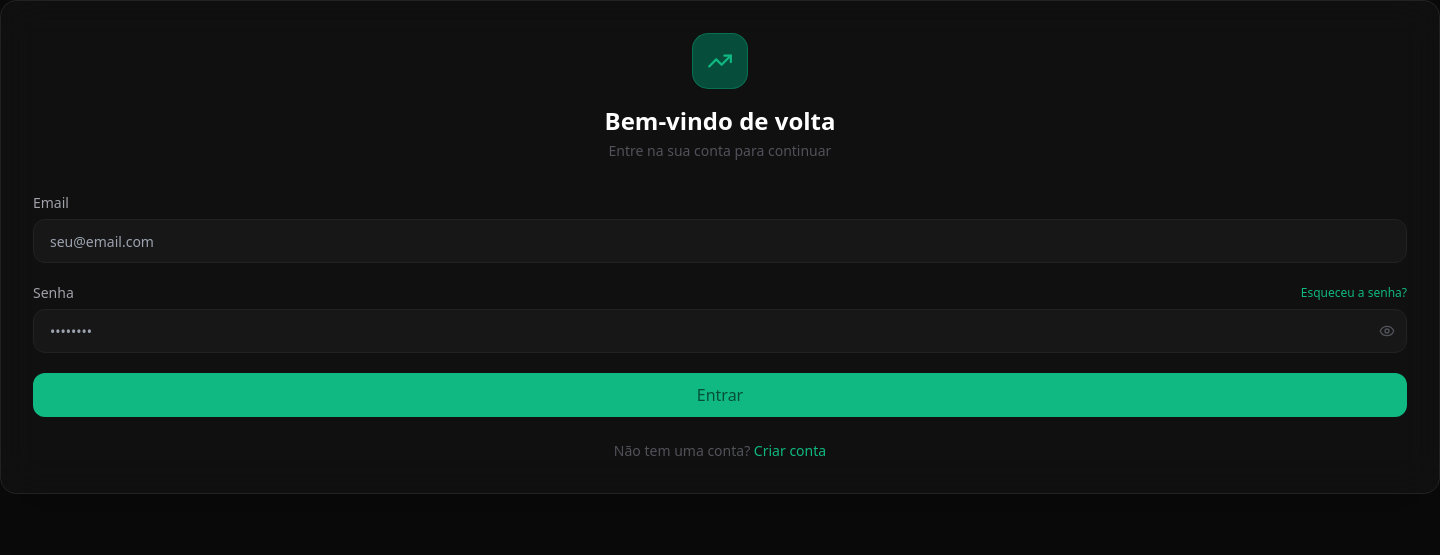
Test: LoginPage › deve mostrar erro com email inválido
Type "email-sem-arroba" into the field with placeholder "seu@email.com" at (720, 241), box [33,219,1407,263]
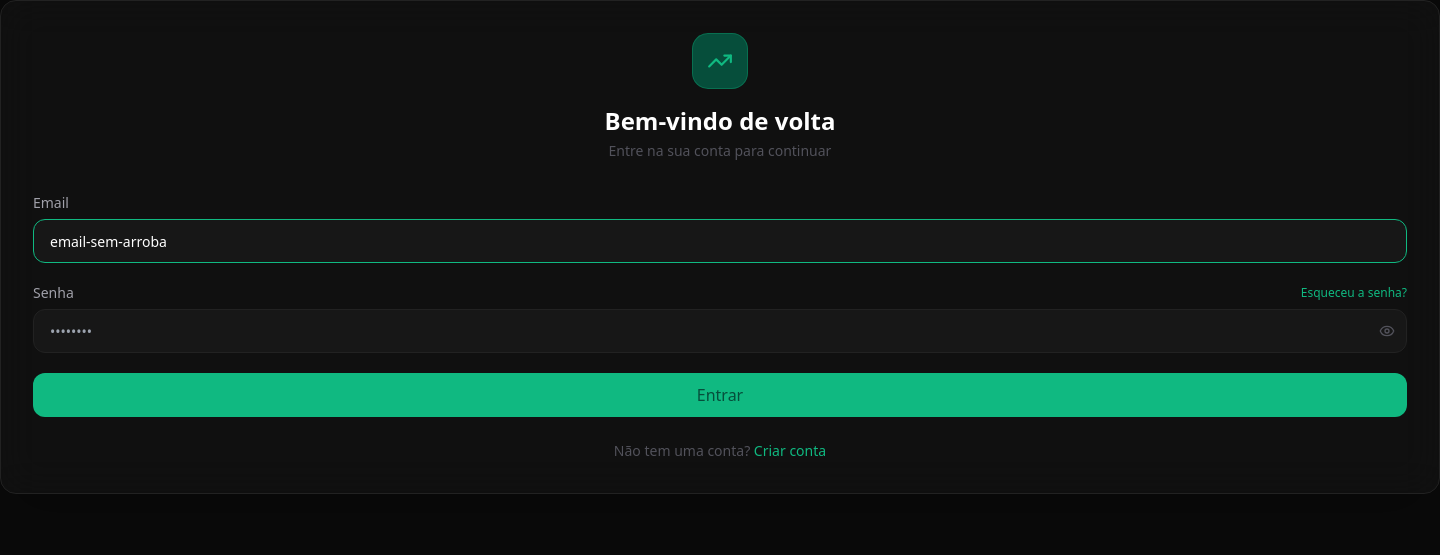
Submit the form with placeholder "seu@email.com", box [33,193,1407,417]
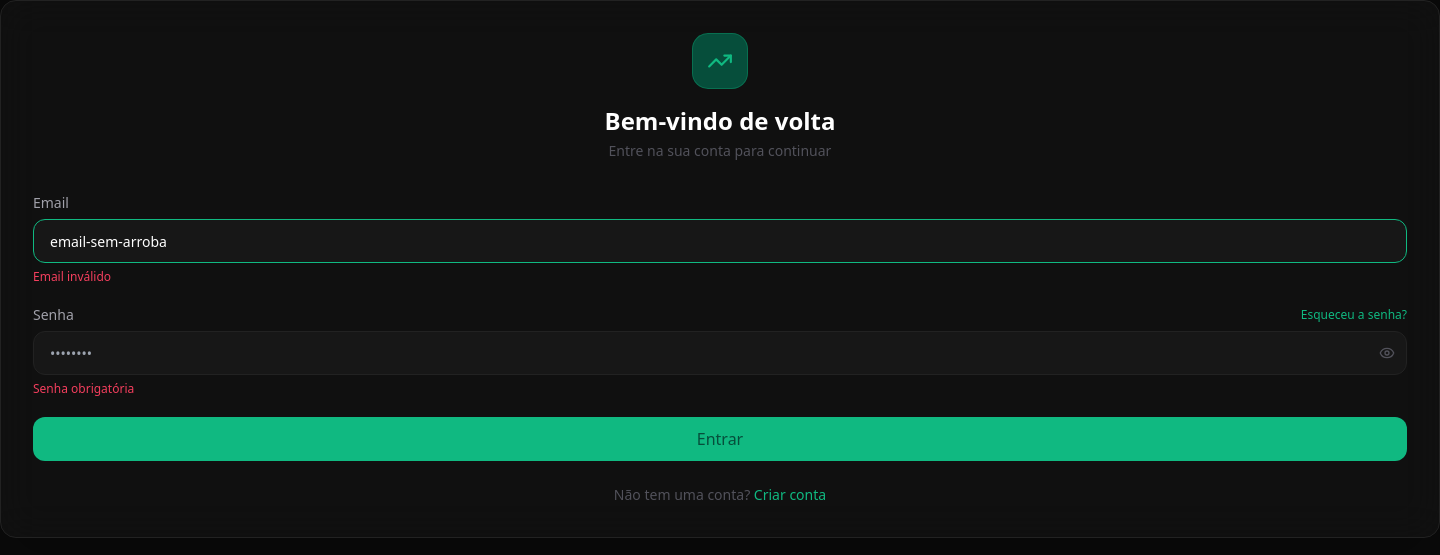
expect the text "Email inválido" is shown: met, box [33,268,111,285]
